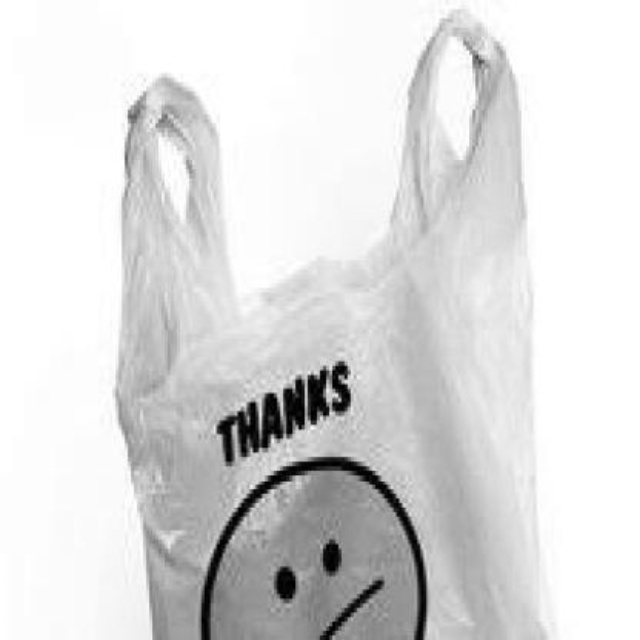trash: (117, 11, 557, 638)
